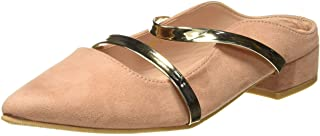shoes: (1, 1, 319, 132)
